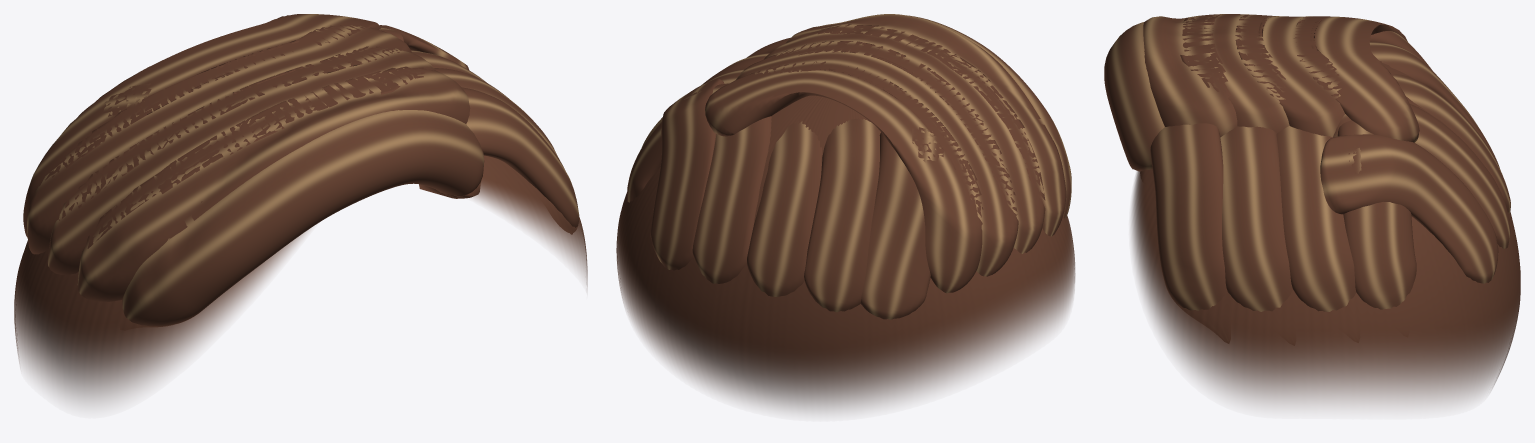
File: Highlights-d5e730e4d5aa252-hair.glb
The picture shows the model from 3 angles, left to right: view 1: azimuth 30°, elevation 25°; view 2: azimuth 150°, elevation 25°; view 3: azimuth 270°, elevation 25°; orthographic projection. The views are drawn at different scales.
Visible parts, largest first — view 1: 226 hair / Hair252 / sculpted locks.001, 226 hair / Hair252 / gentle tonal variation.001, 226 hair / Hair252 / restored153 fade coverage.001; view 2: 226 hair / Hair252 / sculpted locks.001, 226 hair / Hair252 / restored153 fade coverage.001, 226 hair / Hair252 / gentle tonal variation.001; view 3: 226 hair / Hair252 / sculpted locks.001, 226 hair / Hair252 / restored153 fade coverage.001, 226 hair / Hair252 / gentle tonal variation.001.
Boxes of the visible parts, x1,y1,x2,y2 form: 226 hair / Hair252 / sculpted locks.001: [23, 14, 559, 301]; 226 hair / Hair252 / gentle tonal variation.001: [122, 87, 579, 326]; 226 hair / Hair252 / restored153 fade coverage.001: [14, 155, 587, 403]; 226 hair / Hair252 / sculpted locks.001: [627, 14, 1066, 319]; 226 hair / Hair252 / restored153 fade coverage.001: [616, 95, 1075, 411]; 226 hair / Hair252 / gentle tonal variation.001: [746, 15, 1071, 312]; 226 hair / Hair252 / sculpted locks.001: [1143, 14, 1510, 311]; 226 hair / Hair252 / restored153 fade coverage.001: [1131, 61, 1520, 405]; 226 hair / Hair252 / gentle tonal variation.001: [1104, 22, 1499, 310].
Bounding box in the file's own units: 0.976 × 0.6775 × 0.7562.
3 materials, 3 textured.
